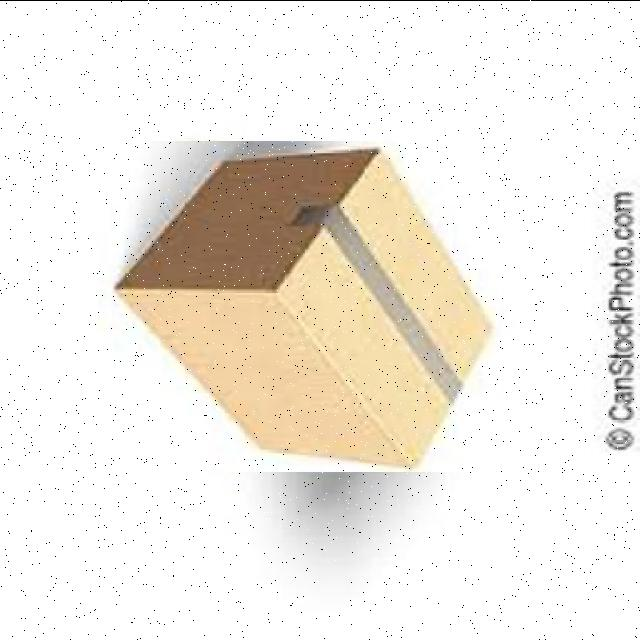normal: (109, 140, 497, 471)
